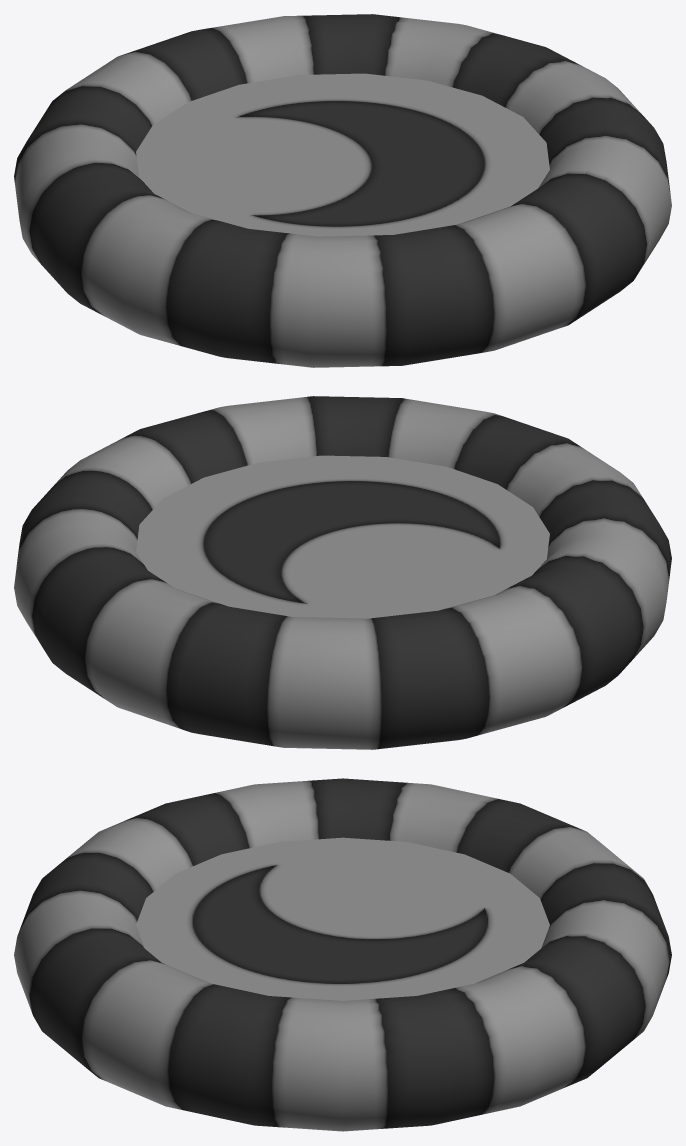
File: Match3coins.fbx
3 renders of one model, top to bottom at view 1: azimuth 30°, elevation 25°; view 2: azimuth 150°, elevation 25°; view 3: azimuth 270°, elevation 25°, orthographic.
Visible parts, largest first — view 1: polySurface1; view 2: polySurface1; view 3: polySurface1.
Part boxes in pixels (bbox=[...]): polySurface1: bbox=[14, 14, 671, 367]; polySurface1: bbox=[14, 396, 671, 749]; polySurface1: bbox=[14, 778, 671, 1131].
Size of the model in its own units: 5 by 1 by 5.
Materials: 1 (1 with a texture image).
